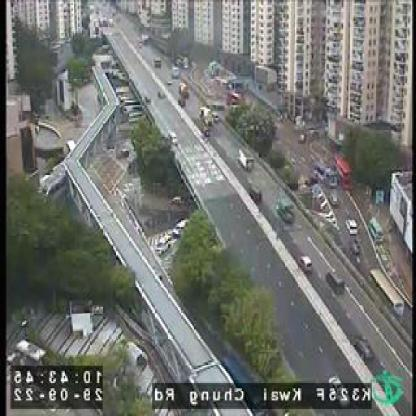Bus: (368, 265, 406, 317), (335, 158, 351, 185)
Car: (355, 331, 378, 362), (325, 267, 346, 298), (314, 163, 336, 180), (298, 253, 313, 274), (250, 184, 262, 206), (177, 80, 192, 97), (346, 216, 357, 235), (351, 237, 361, 255), (169, 130, 179, 146), (156, 52, 164, 71), (172, 64, 180, 80), (333, 191, 339, 206)
Minibus: (276, 196, 295, 225), (369, 217, 386, 246)
Truck: (238, 145, 253, 170), (200, 102, 216, 125)
